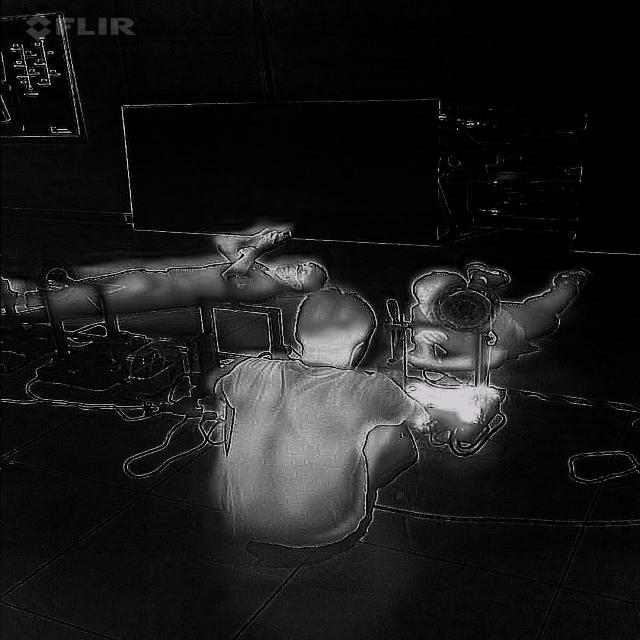Victim: (201, 277, 433, 557), (0, 219, 337, 330), (393, 256, 594, 378)
